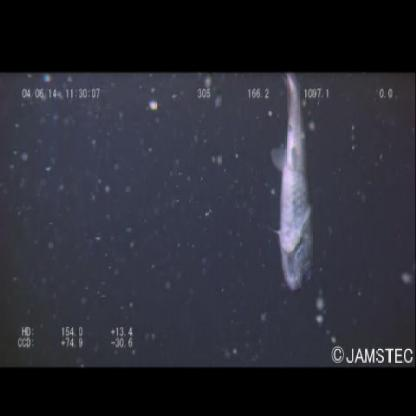Bio: (261, 73, 319, 293)
